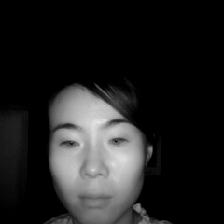normal: (30, 72, 162, 224)
